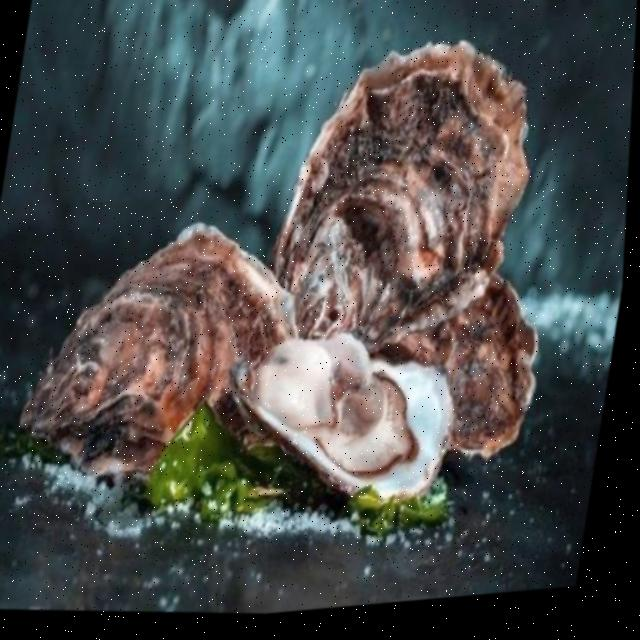Oyster-Indeterminate: (257, 11, 559, 374), (5, 192, 316, 511), (347, 252, 553, 481)
Oyster-Open: (209, 305, 469, 533)
